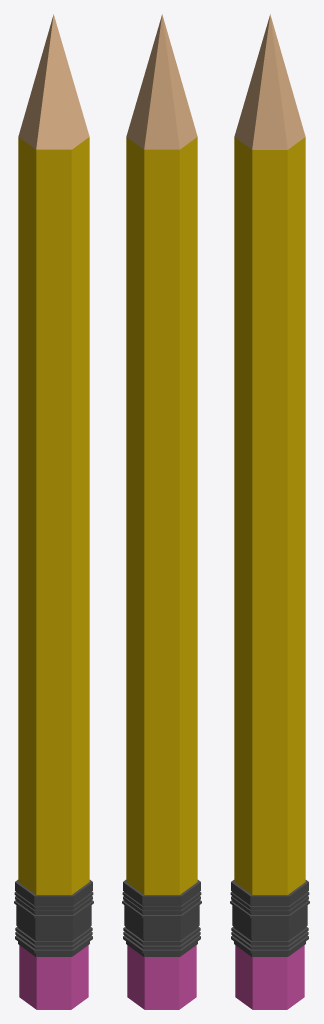
Rendered from pencil.fbx.
3 renders of one model, left to right at view 1: azimuth 90°, elevation 25°; view 2: azimuth 210°, elevation 25°; view 3: azimuth 270°, elevation 25°, orthographic.
Visible parts, largest first — view 1: Wood, Tip, Metal, Eraser; view 2: Wood, Tip, Metal, Eraser; view 3: Wood, Tip, Metal, Eraser.
Part boxes in pixels (bbox=[...]): Wood: bbox=[18, 137, 89, 894]; Tip: bbox=[18, 14, 89, 149]; Metal: bbox=[14, 880, 93, 956]; Eraser: bbox=[19, 945, 88, 1009]; Wood: bbox=[126, 137, 197, 894]; Tip: bbox=[126, 14, 197, 149]; Metal: bbox=[122, 880, 201, 956]; Eraser: bbox=[127, 945, 196, 1009]; Wood: bbox=[234, 137, 305, 894]; Tip: bbox=[234, 14, 305, 149]; Metal: bbox=[230, 880, 309, 956]; Eraser: bbox=[235, 945, 304, 1009].
Size of the model in its own units: 28.53 by 448 by 32.94.
